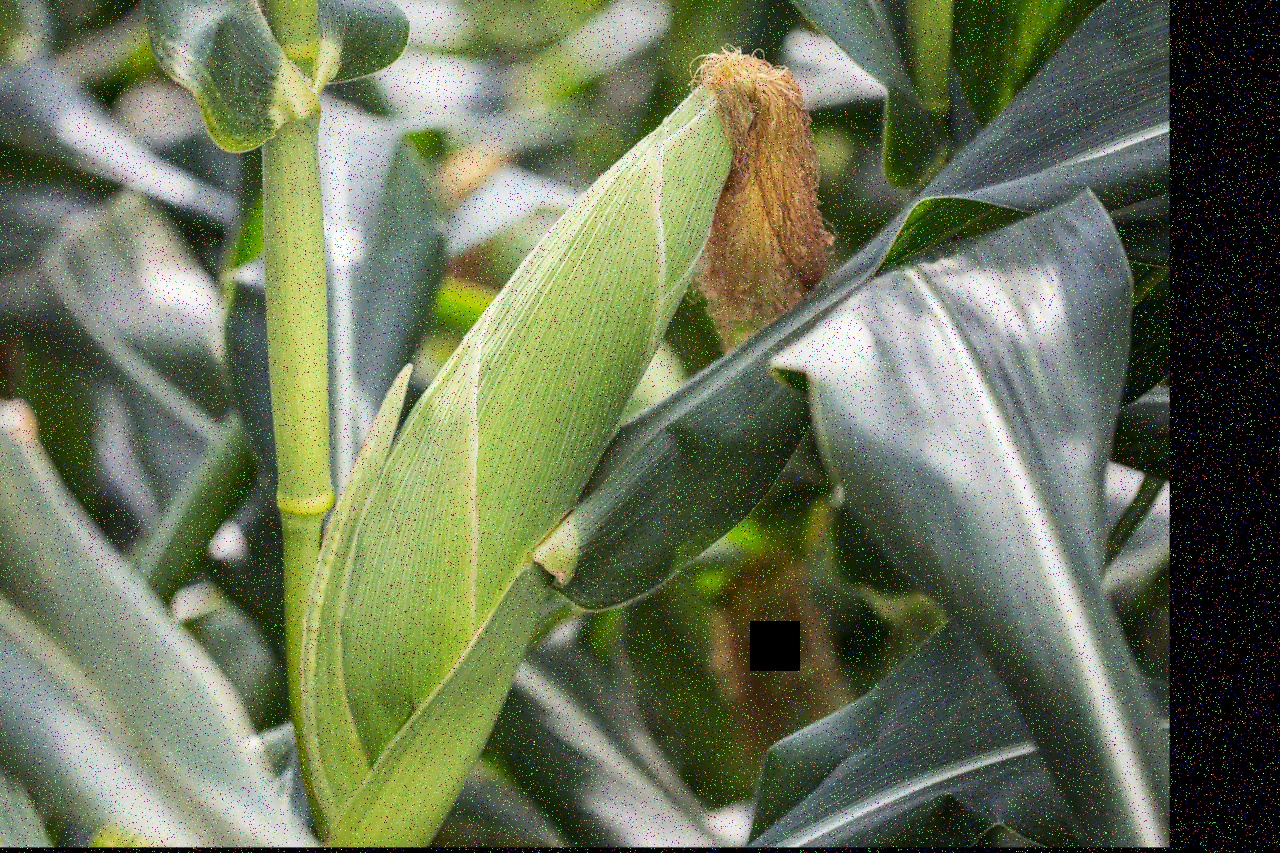corn_plant: (297, 27, 836, 818)
